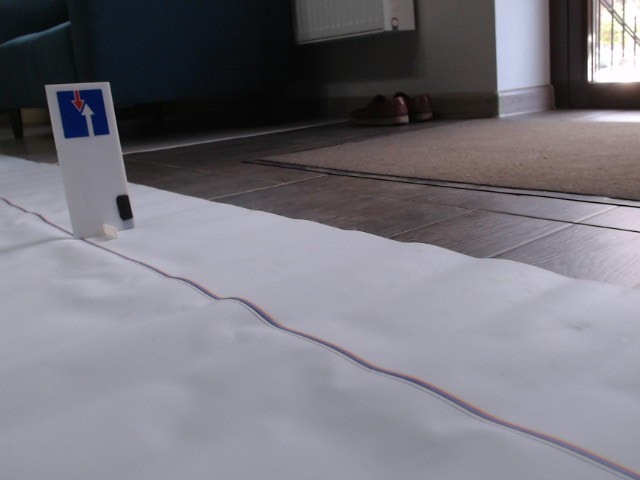priority_movement: (53, 87, 112, 140)
